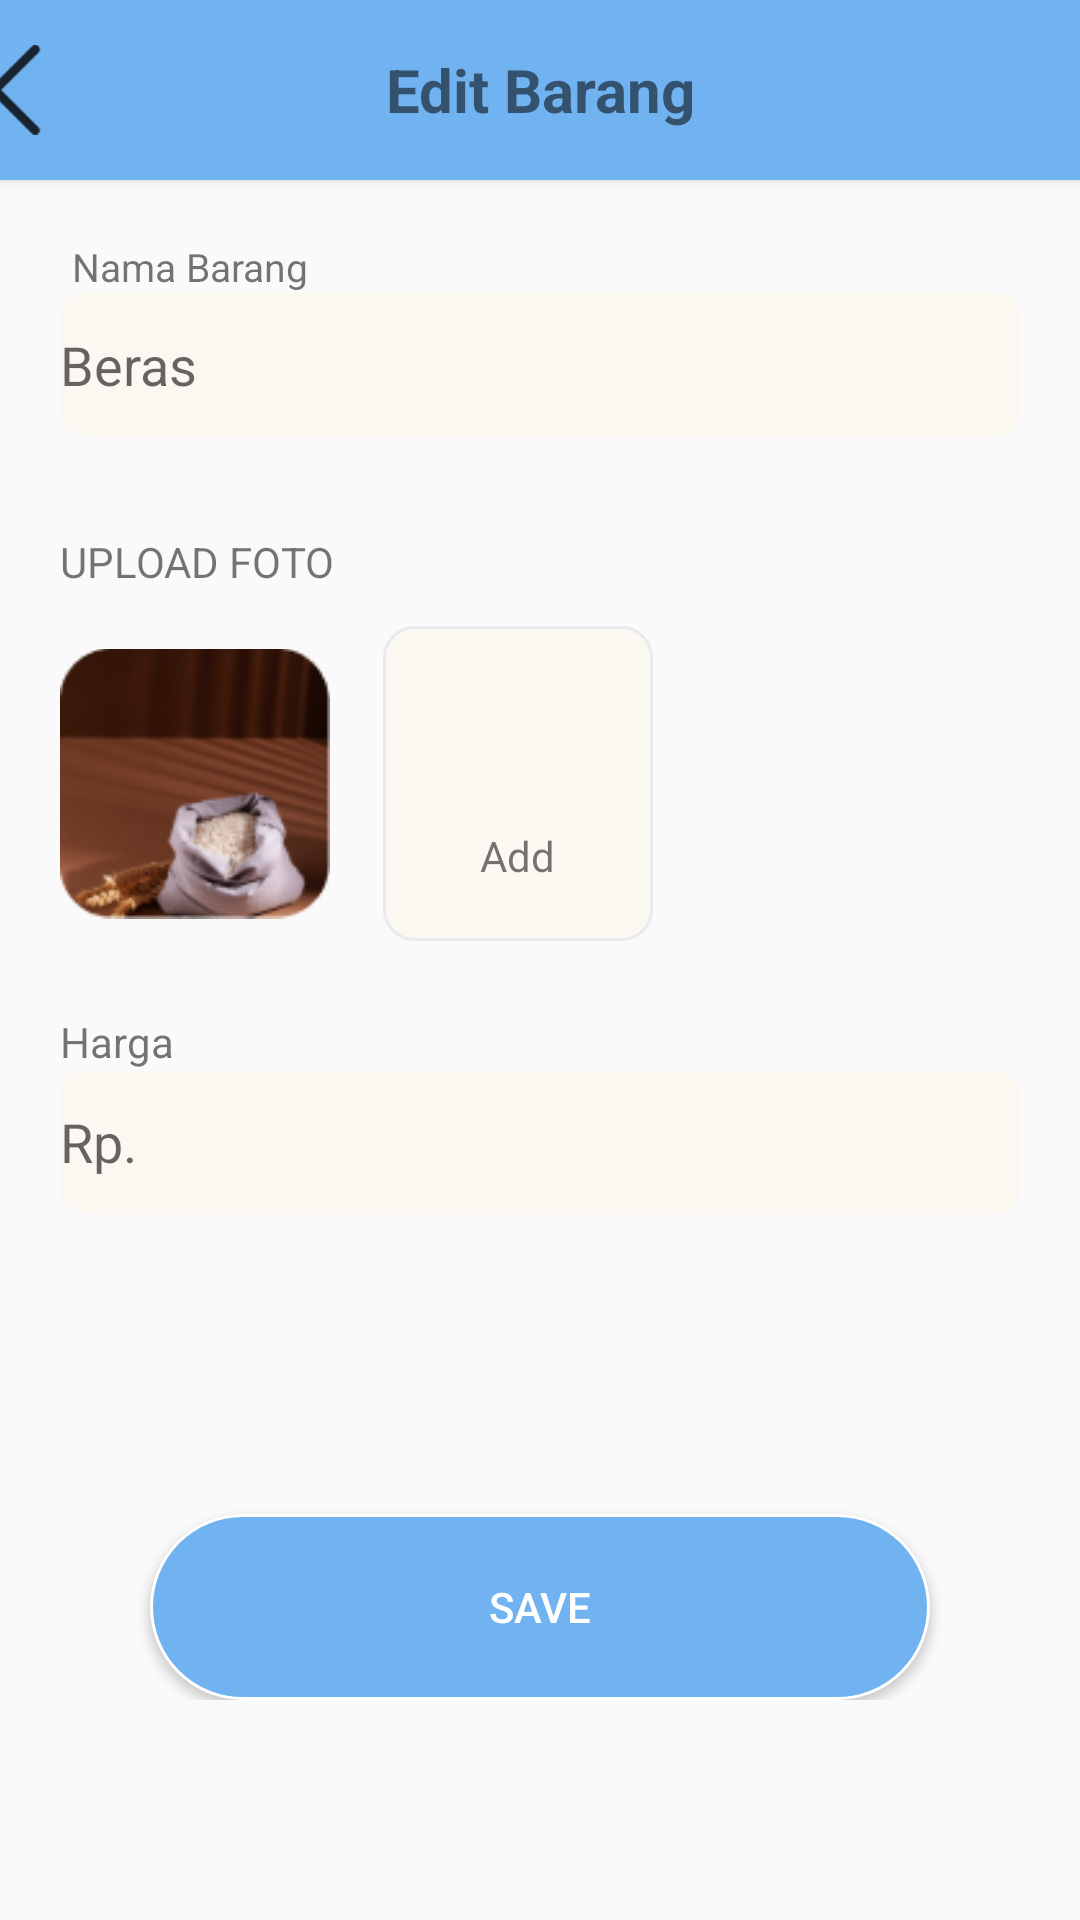

Named icons in this screenshot (1080 x 1920) and their centers, point (x, y):
beras: point (195, 784)
